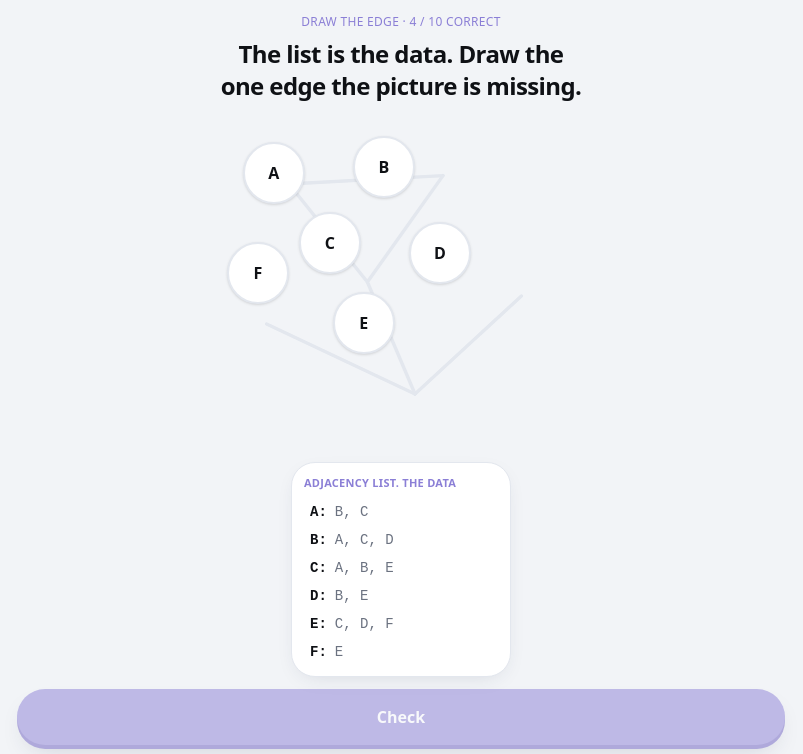
it: draw-edge (rewire: node is both source and target) › commits {B,D} via tap → tap and clears the beat
The width and height of the screenshot is (803, 754).
Expected: the button "Check" is disabled, [17, 688, 785, 744]
Step 1. Click the button "B" → (384, 167), box [353, 136, 415, 198]
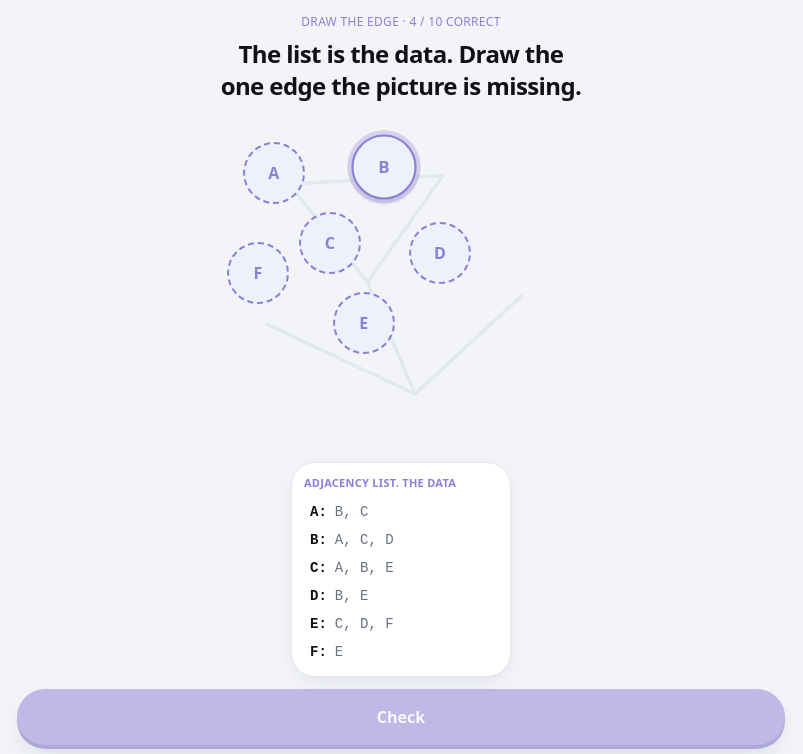
Step 2. Click the button "D" → (440, 253), box [409, 222, 471, 284]
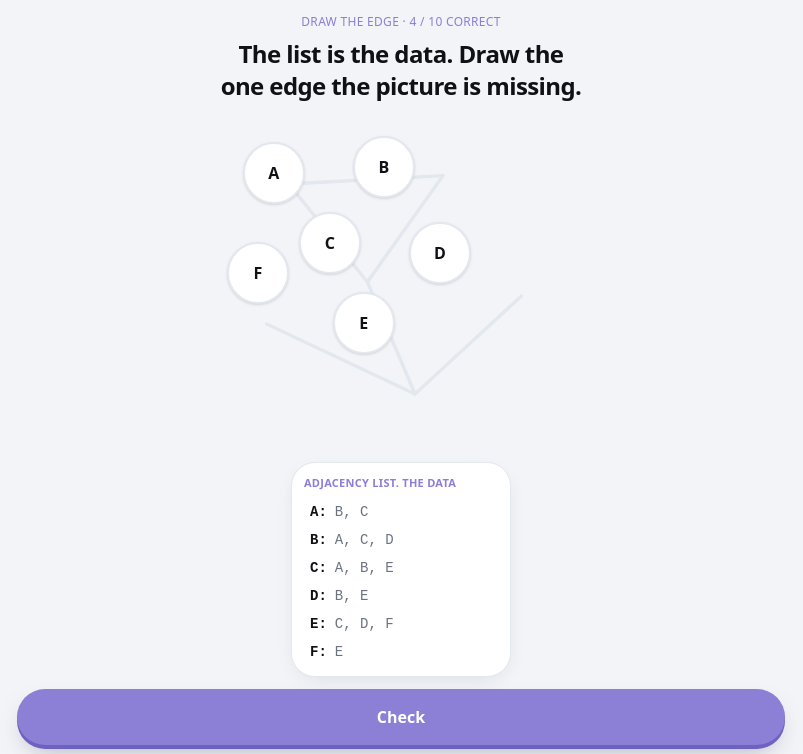
Expected: the button "Check" is enabled
Step 3. Click the button "Check" → (401, 716), box [17, 688, 785, 744]
(page scrolled)
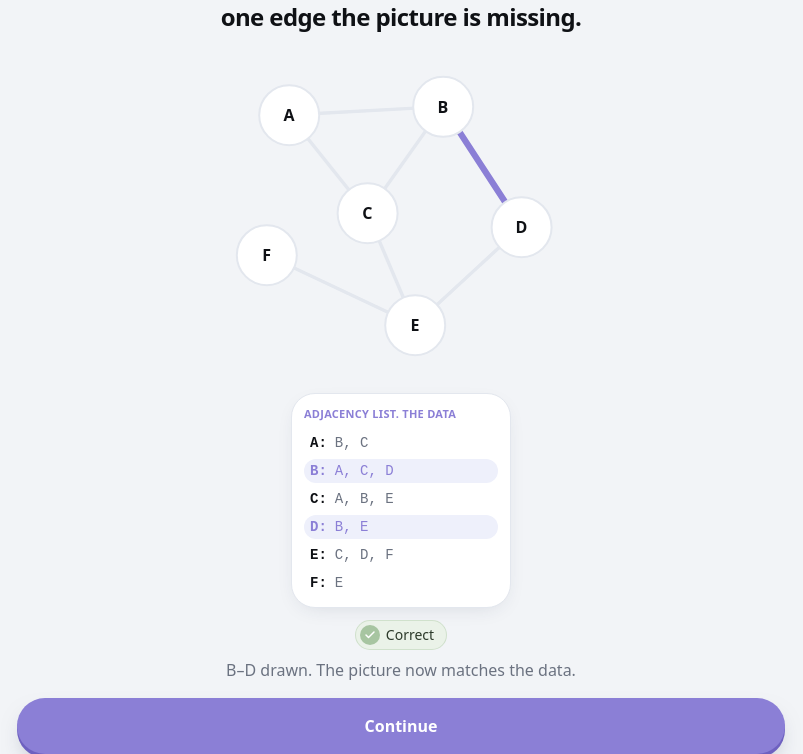
Expected: the button "Continue" is shown, [17, 698, 785, 753]
